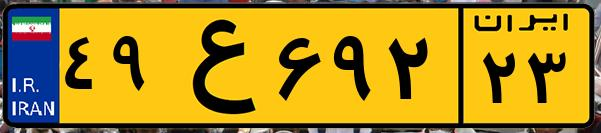2: (385, 28, 445, 110), (475, 38, 525, 113)
3: (525, 38, 570, 115)
4: (57, 26, 110, 100)
6: (270, 28, 330, 110)
9: (330, 28, 385, 110), (110, 28, 158, 98)
ع: (158, 12, 270, 120)
